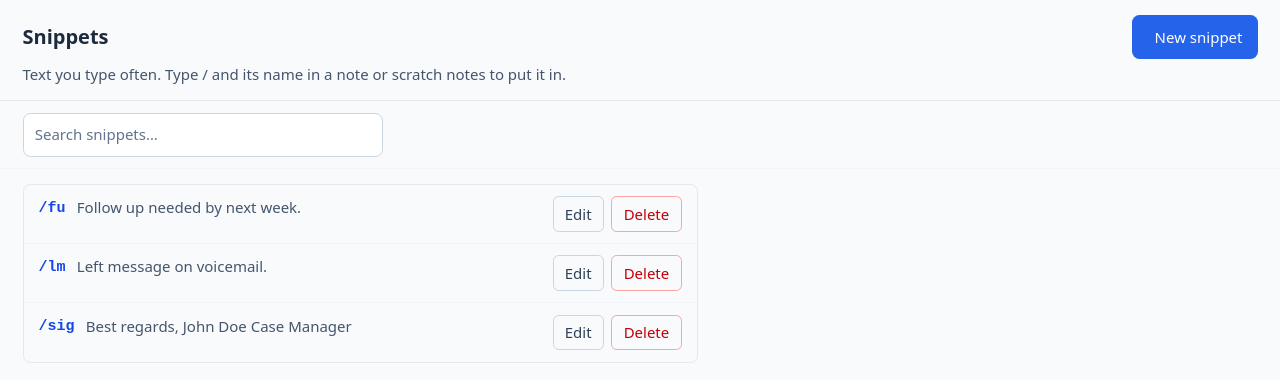
SnippetsView — data smoke tests › shows no-match message when search has no results
The image size is (1280, 380).
Expected: the text "/lm" is shown, [38,257,66,280]
In the search field with placeholder "Search snippets…": (202, 134) [22,112,382,156], type "zzzzz"
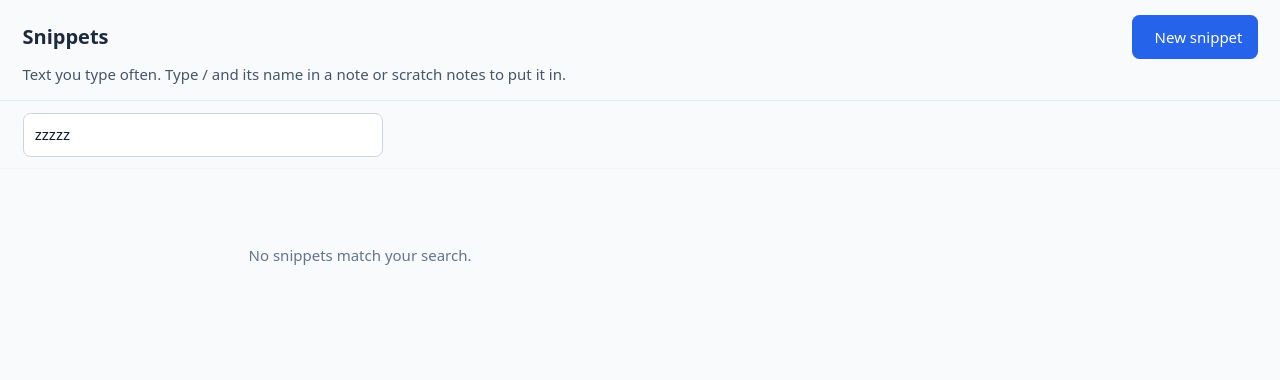
Expected: the text "No snippets match your search." is shown, [249,245,472,265]
